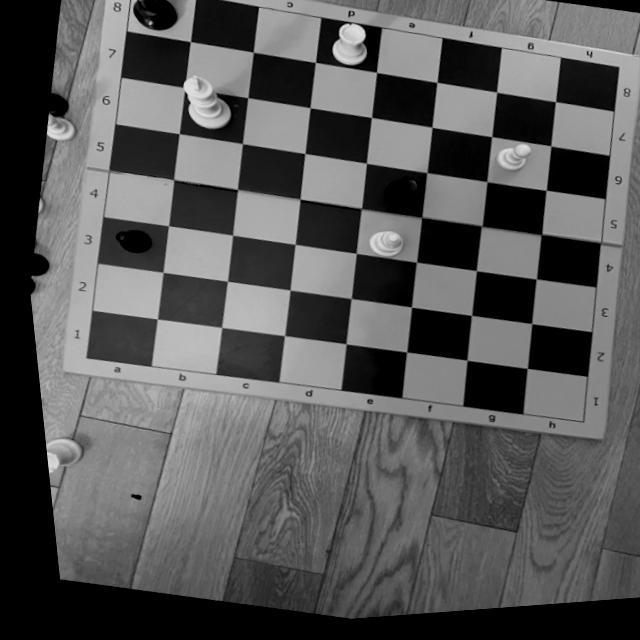chess-table-corners: (70, 348, 88, 364), (607, 70, 624, 84), (568, 424, 580, 435)
